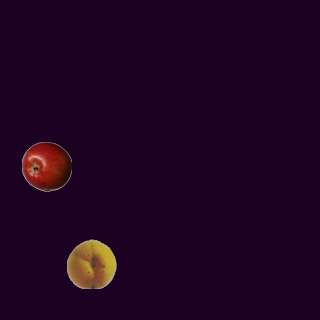Apple Braeburn: (21, 141, 71, 191)
Peach 2: (66, 238, 116, 288)
